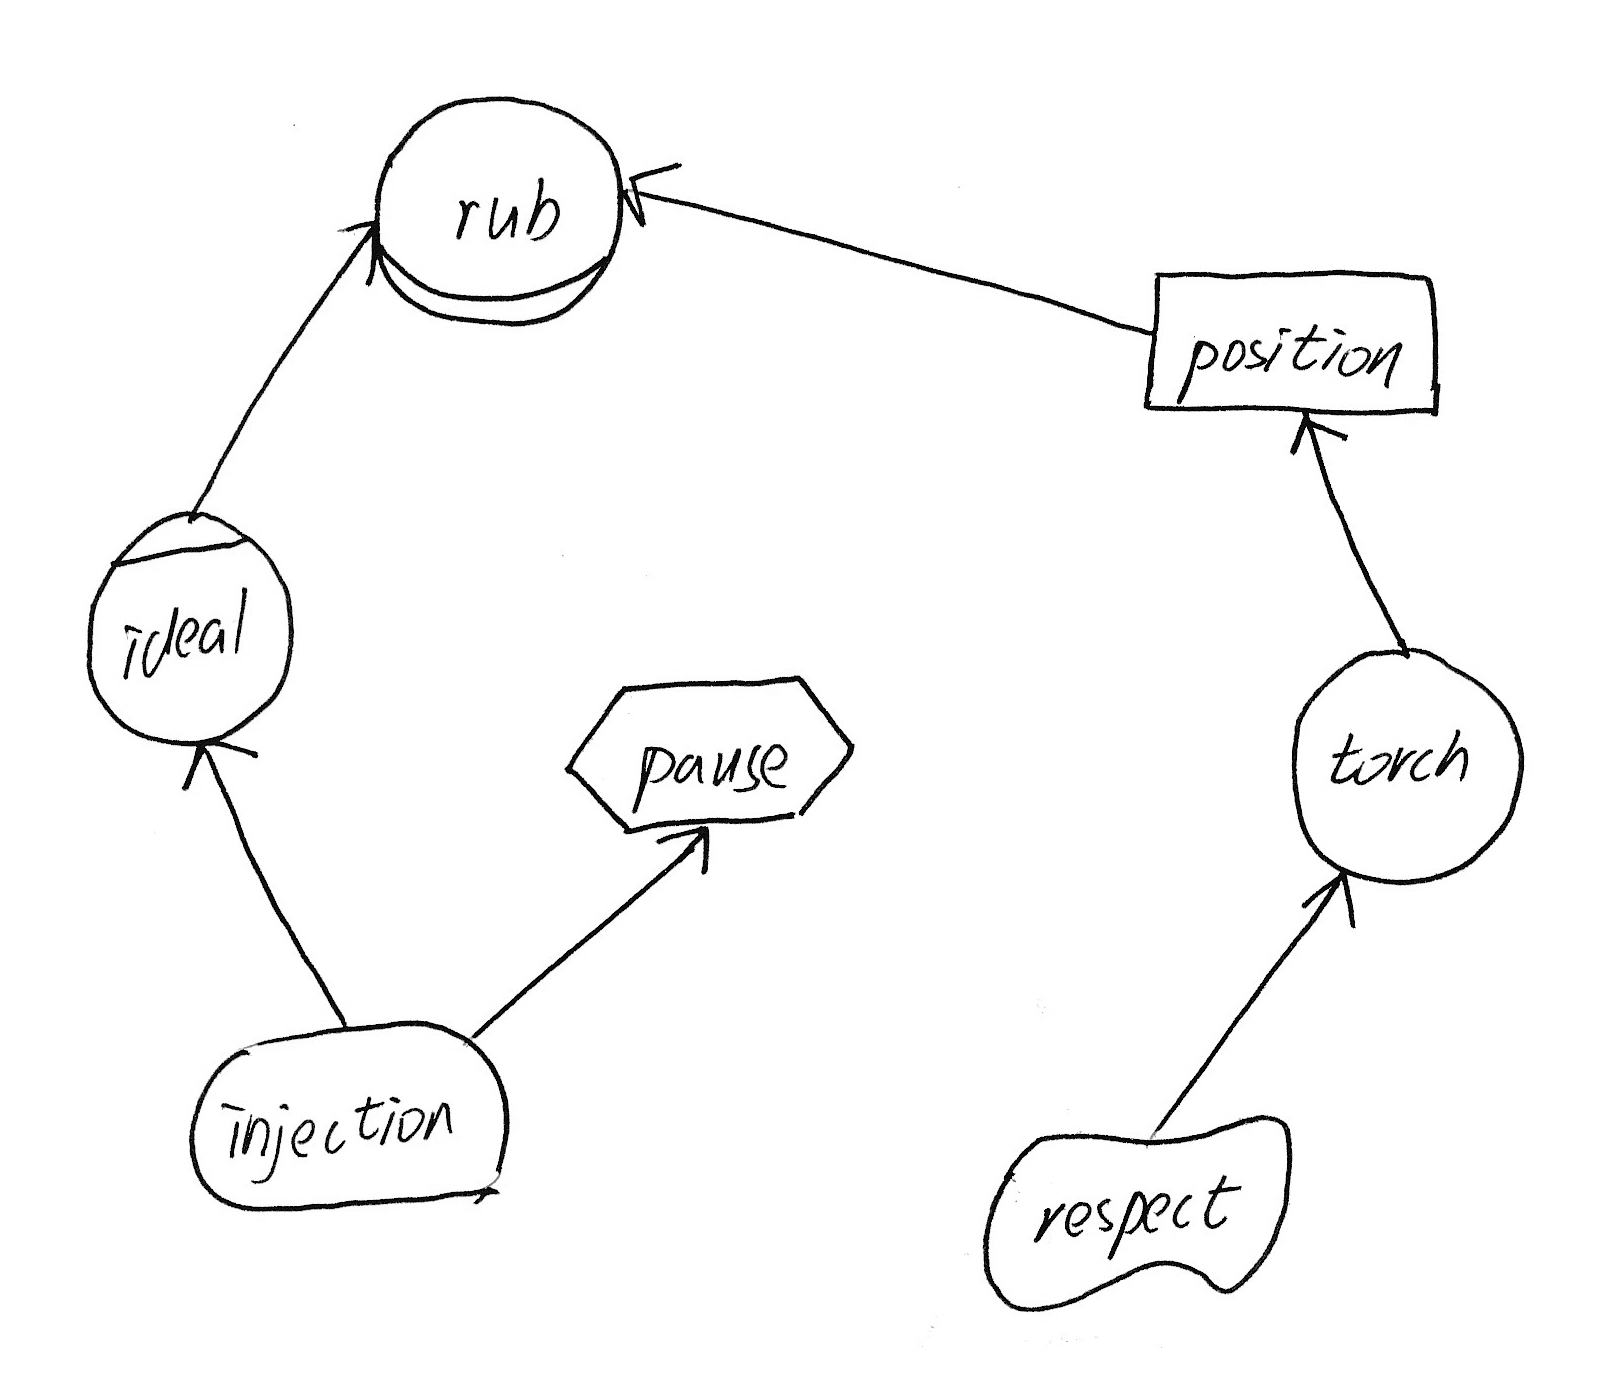actor: (1276, 632, 1542, 894)
agent: (67, 495, 308, 757)
arrow: (609, 145, 695, 242), (172, 725, 263, 796), (328, 205, 394, 299), (1288, 864, 1376, 929), (650, 817, 725, 888), (1277, 404, 1357, 471)
goal: (176, 1007, 528, 1225)
quality: (970, 1098, 1309, 1326)
resource: (1131, 251, 1470, 438)
role: (359, 82, 635, 341)
task: (551, 665, 869, 845)
